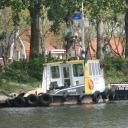tugboat: (5, 56, 119, 111)
